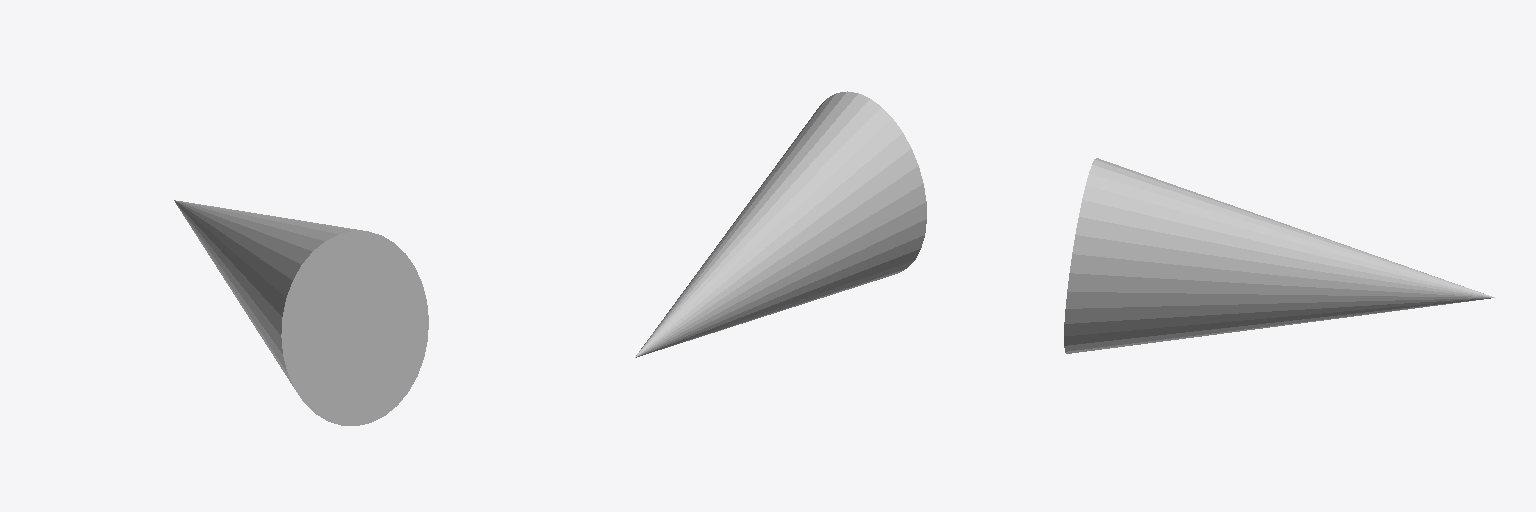
Rendered from Tartaruga-calda.obj.
3 views of the same model, side by side, from view 1: azimuth 30°, elevation 25°; view 2: azimuth 150°, elevation 25°; view 3: azimuth 270°, elevation 25° (orthographic).
Visible parts, largest first — view 1: Tartaruga-calda_Cylinder.006; view 2: Tartaruga-calda_Cylinder.006; view 3: Tartaruga-calda_Cylinder.006.
Boxes of the visible parts, x1,y1,x2,y2 form: Tartaruga-calda_Cylinder.006: [174, 200, 428, 425]; Tartaruga-calda_Cylinder.006: [635, 91, 926, 357]; Tartaruga-calda_Cylinder.006: [1064, 158, 1494, 353].
Bounding box in the file's own units: 0.1116 × 0.1491 × 0.3137.